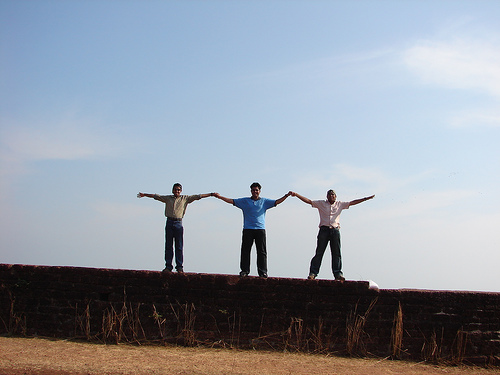without_mask: (250, 184, 261, 197), (172, 184, 182, 198), (327, 190, 336, 202)
